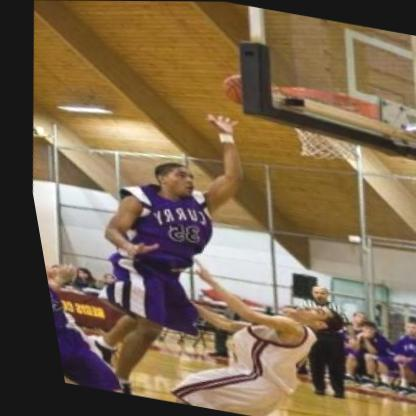basketball: (209, 64, 263, 109)
